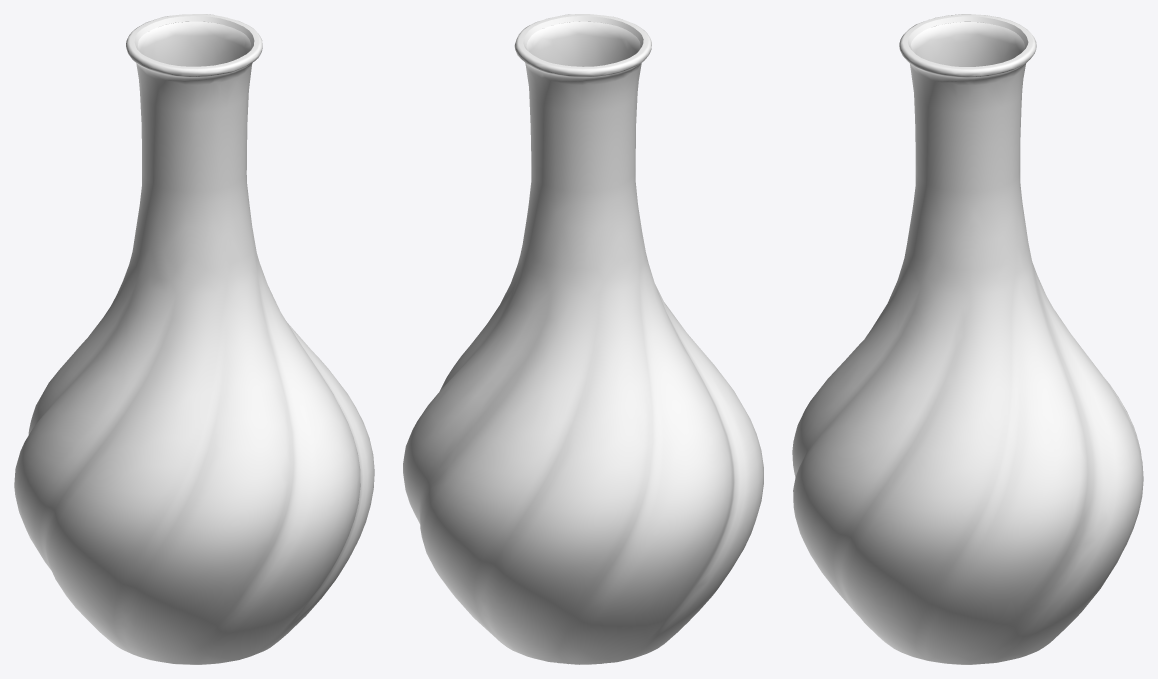
The model's file is viljestark_wazon_00338577.glb.
3 renders of one model, left to right at view 1: azimuth 30°, elevation 25°; view 2: azimuth 150°, elevation 25°; view 3: azimuth 270°, elevation 25°, orthographic.
Parts seen in each view (by area): view 1: viljestark_wazon_00338577; view 2: viljestark_wazon_00338577; view 3: viljestark_wazon_00338577.
Boxes of the visible parts, x1=… form: viljestark_wazon_00338577: x1=14, y1=14, x2=374, y2=664; viljestark_wazon_00338577: x1=403, y1=14, x2=763, y2=664; viljestark_wazon_00338577: x1=792, y1=14, x2=1143, y2=664.
Size of the model in its own units: 0.0926 by 0.171 by 0.0926.
Materials: 1 (1 with a texture image).
